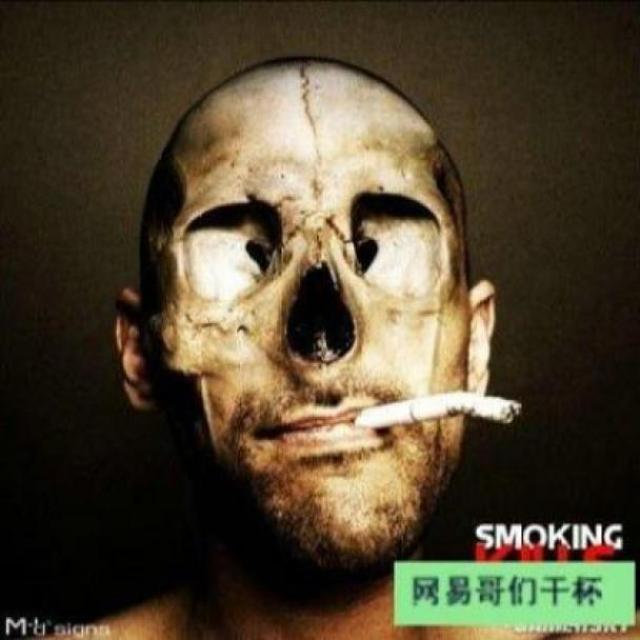rokok: (348, 389, 526, 441)
